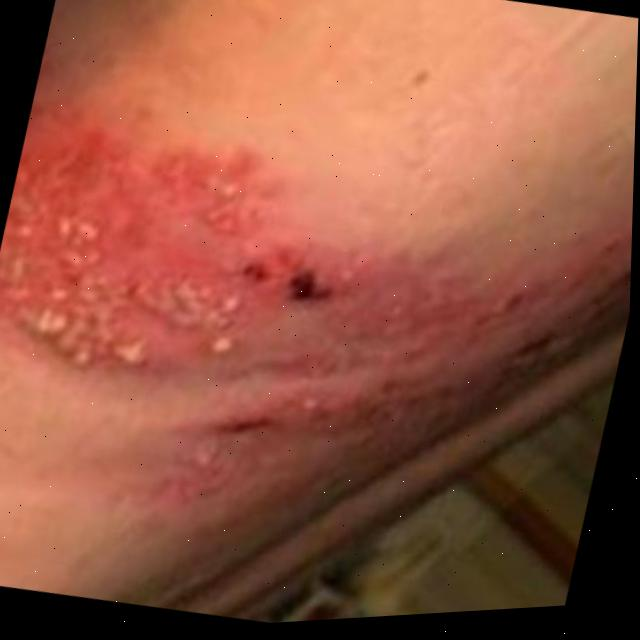Shingles: (0, 95, 337, 416)
